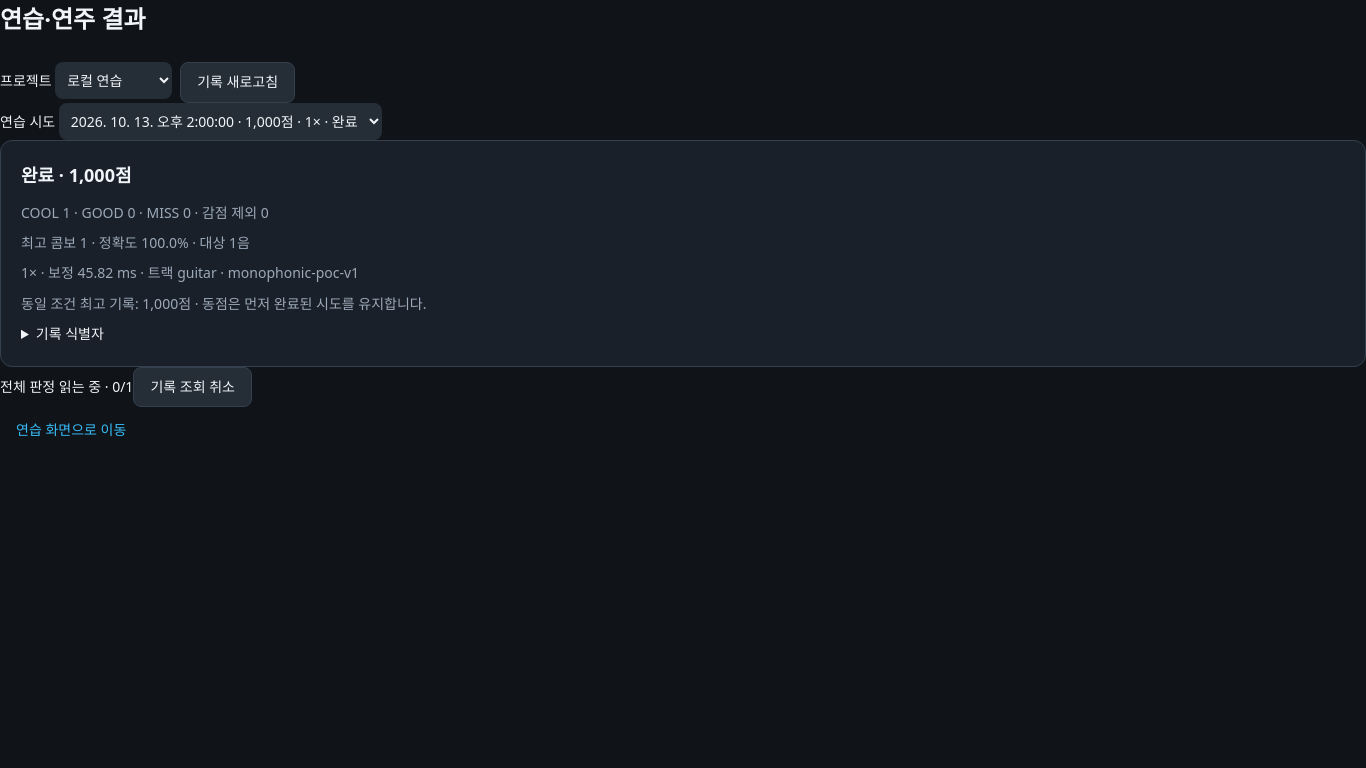
Test case: 판정 조회를 취소한 뒤 같은 시도만 다시 읽을 수 있다
What coordinates should you click on to do the following:
click the button "기록 조회 취소"
I would click on:
 (193, 387)
Its box is top-left (133, 366), bottom-right (252, 407).
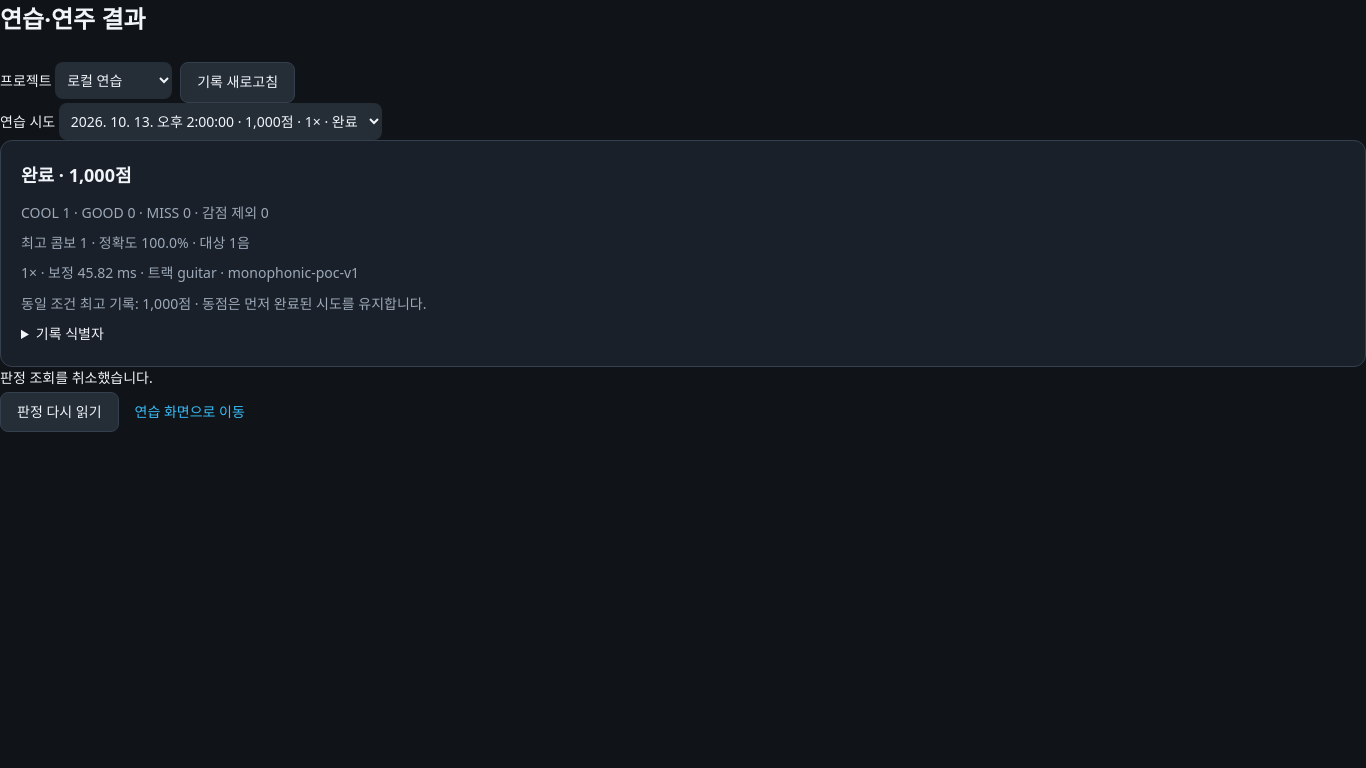
Expected: the heading "마디별 정확도" is not shown
Result: the text "판정 조회를 취소했습니다." is shown at top-left (0, 368), bottom-right (153, 386)
What coordinates should you click on to do the following:
click the button "판정 다시 읽기"
I would click on:
 (59, 412)
Its box is top-left (0, 392), bottom-right (119, 432).
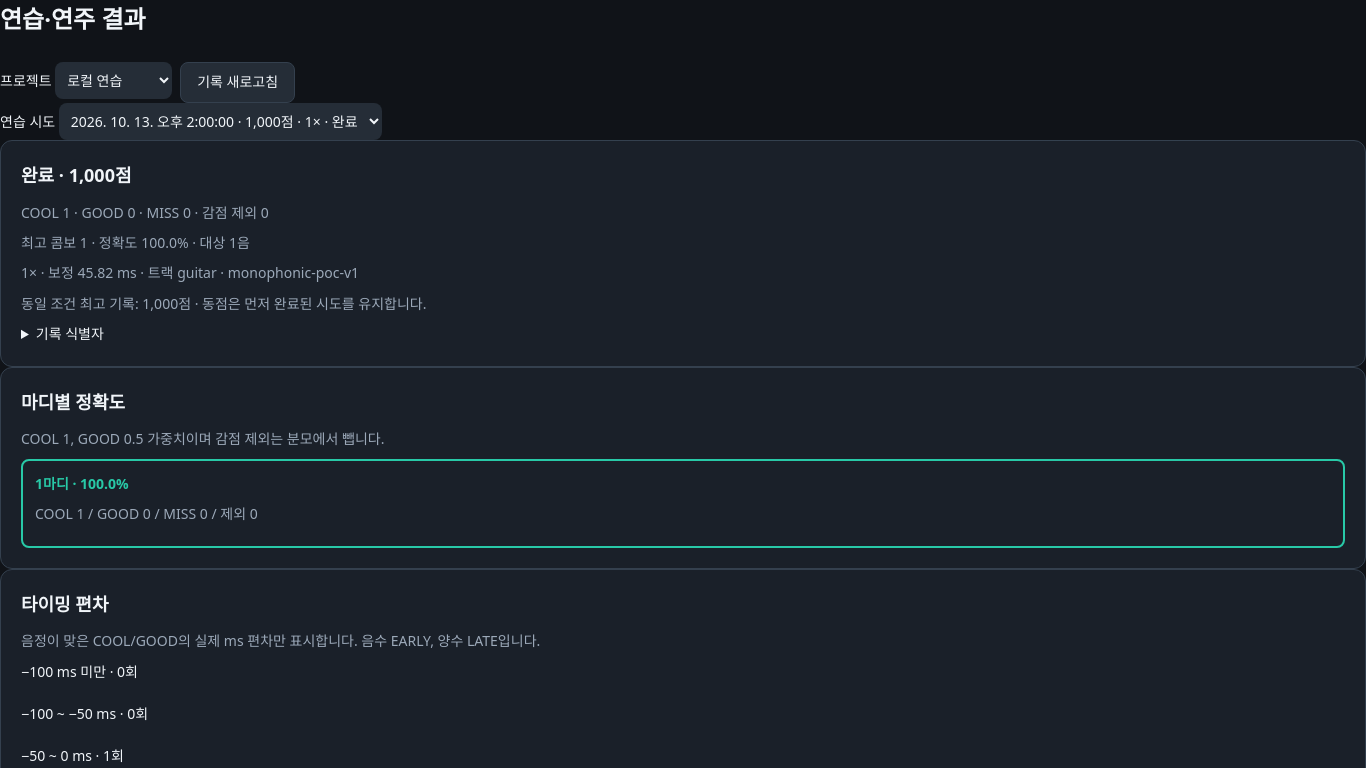
Result: the text "1마디 · 100.0%" is shown at top-left (35, 474), bottom-right (129, 493)
